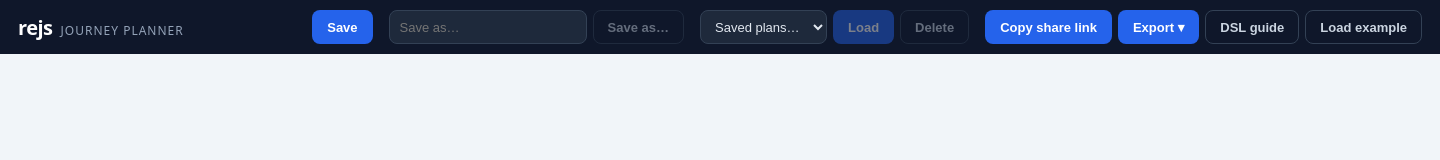
Test case: Toolbar export menu › is closed until the Export button is clicked
Click the button "Export ▾": [1159, 27] box [1118, 10, 1199, 44]
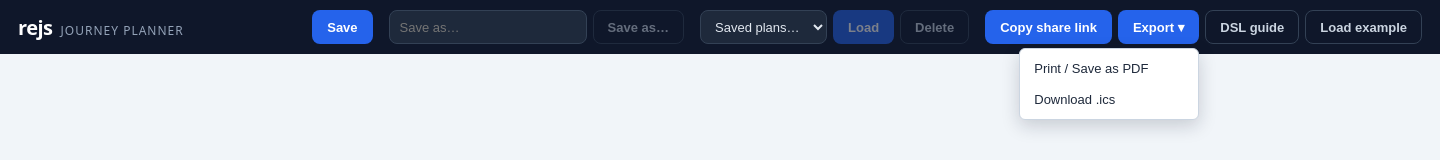
Check: the menu is shown, box [1019, 48, 1199, 120]
